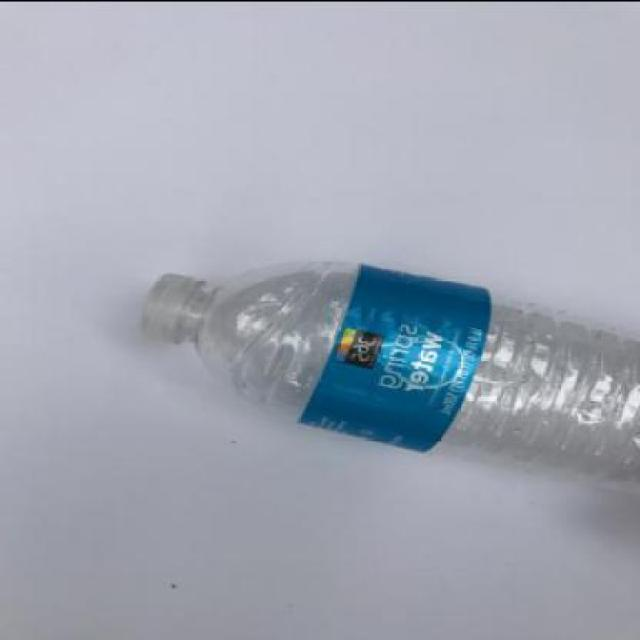PLASTIC: (137, 262, 638, 488), (293, 260, 492, 451), (138, 272, 202, 346)
